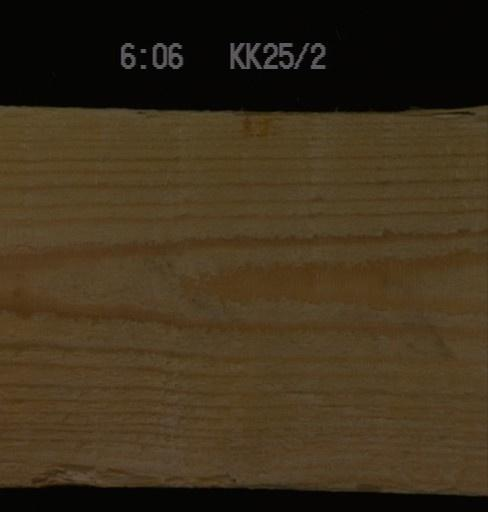wave: (24, 458, 244, 486), (400, 108, 487, 124)
